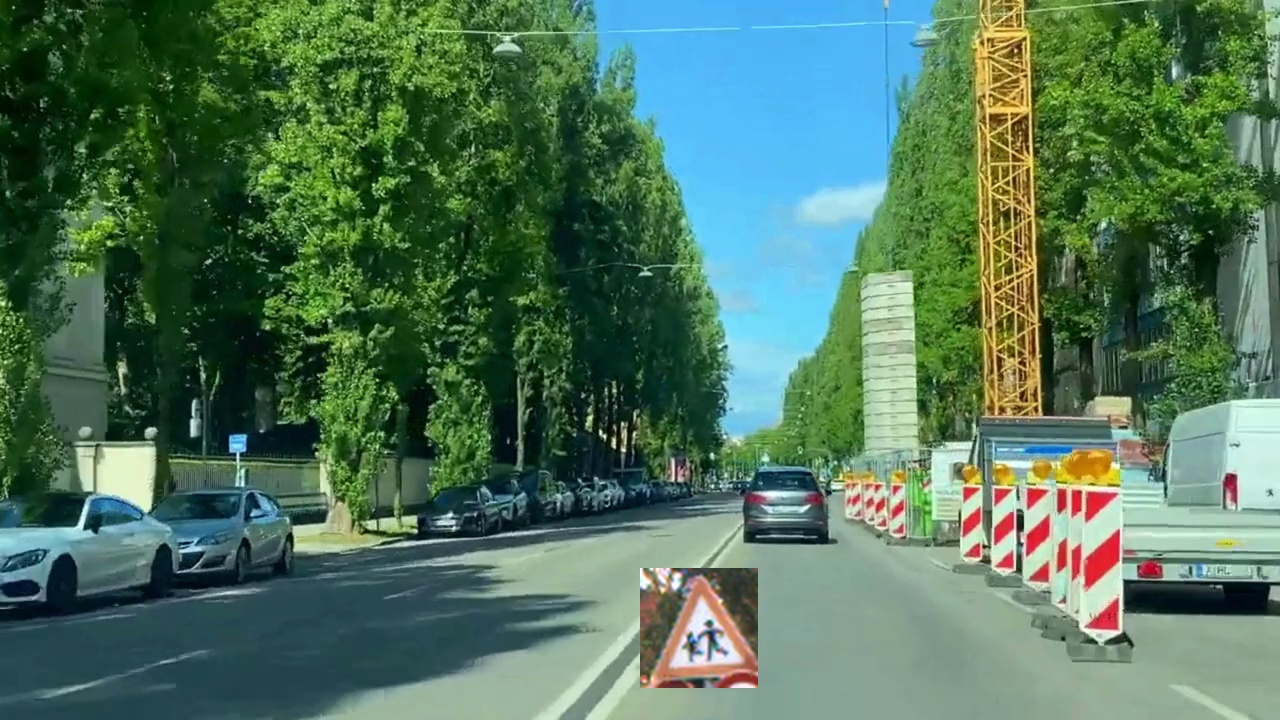Children: (640, 568, 758, 688)
